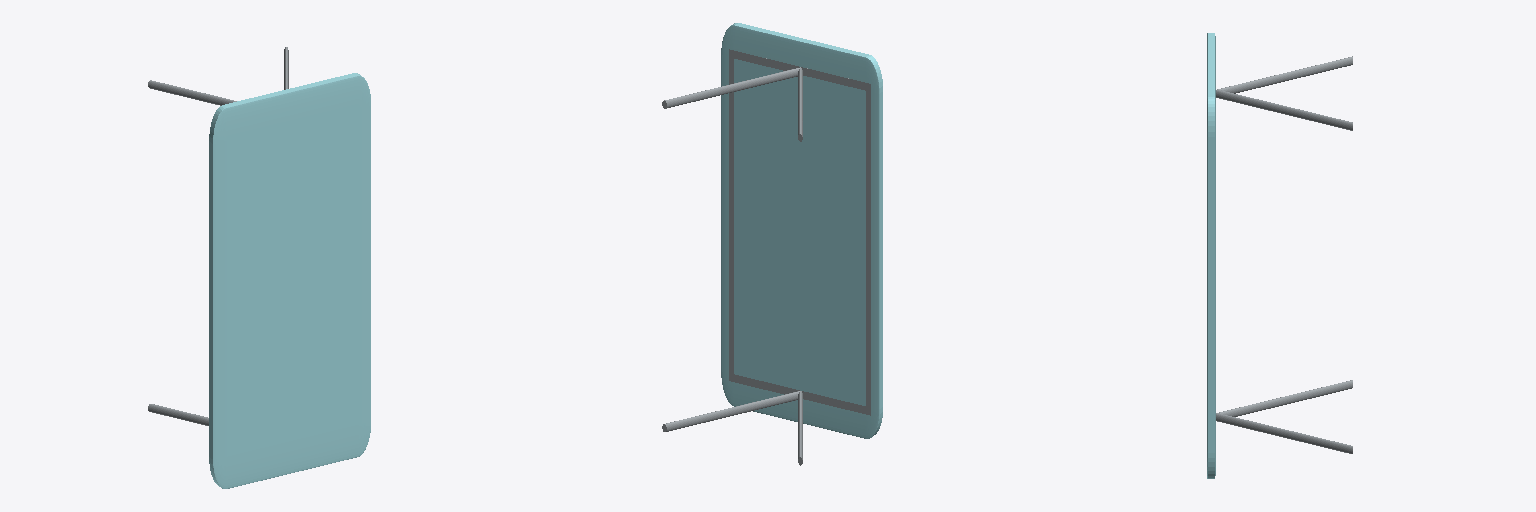
File: tinker.obj
The picture shows the model from 3 angles: view 1: azimuth 30°, elevation 25°; view 2: azimuth 150°, elevation 25°; view 3: azimuth 270°, elevation 25°; orthographic projection.
Parts seen in each view (by area): view 1: obj_0; view 2: obj_0; view 3: obj_0.
Part boxes in pixels (x1,y1,x2,y2): obj_0: (148, 47, 370, 488); obj_0: (662, 23, 882, 465); obj_0: (1207, 33, 1352, 478).
Bounding box in the file's own units: 20 × 46 × 16.